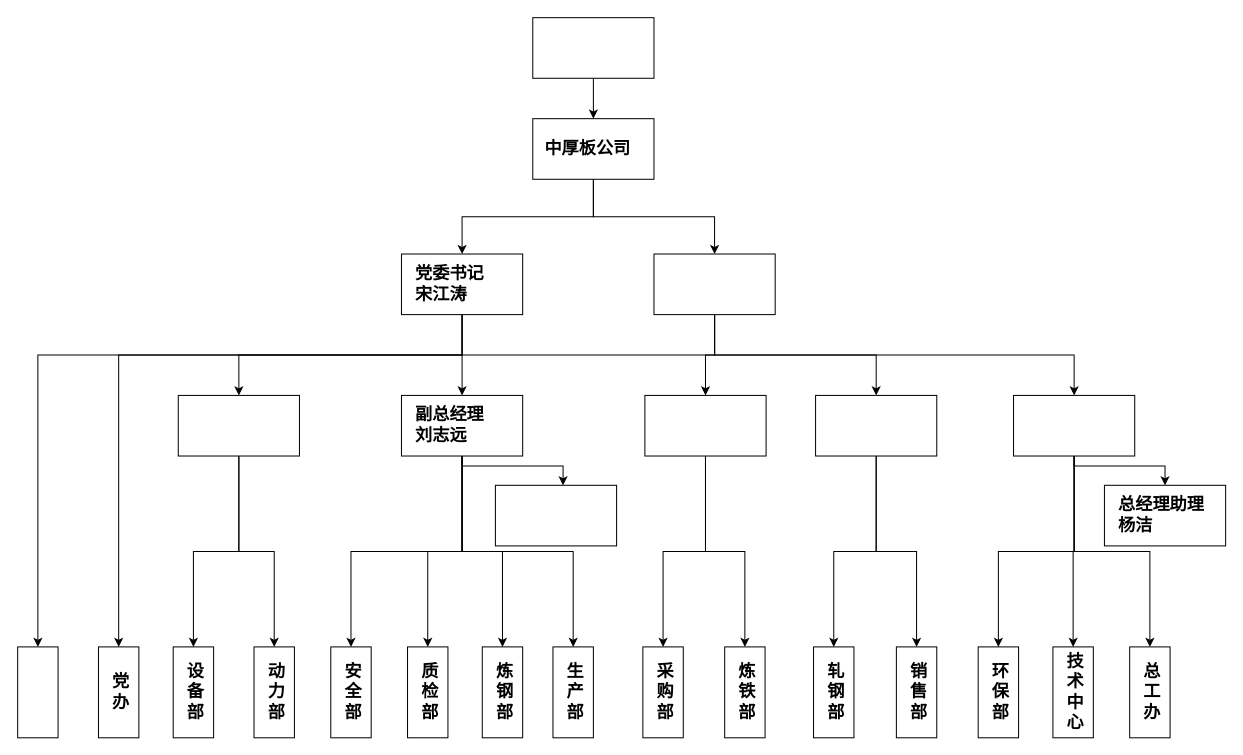
Image size: 1243x755. Some labels were removed from this diagram. Here are the shapes that lost their labels. From the top down, the box of each, then its label:
(532, 17, 654, 78): 唐钢集团
(653, 253, 775, 315): 总经理 刘文丰
(177, 394, 299, 456): 副总经理 马德民
(644, 394, 766, 456): 副总经理 韩现考
(815, 394, 937, 456): 副总经理 张阔斌
(1013, 394, 1135, 456): 副总经理 冯润明
(494, 484, 617, 546): 总经理助理 杨峥
(17, 646, 58, 738): 综合部
